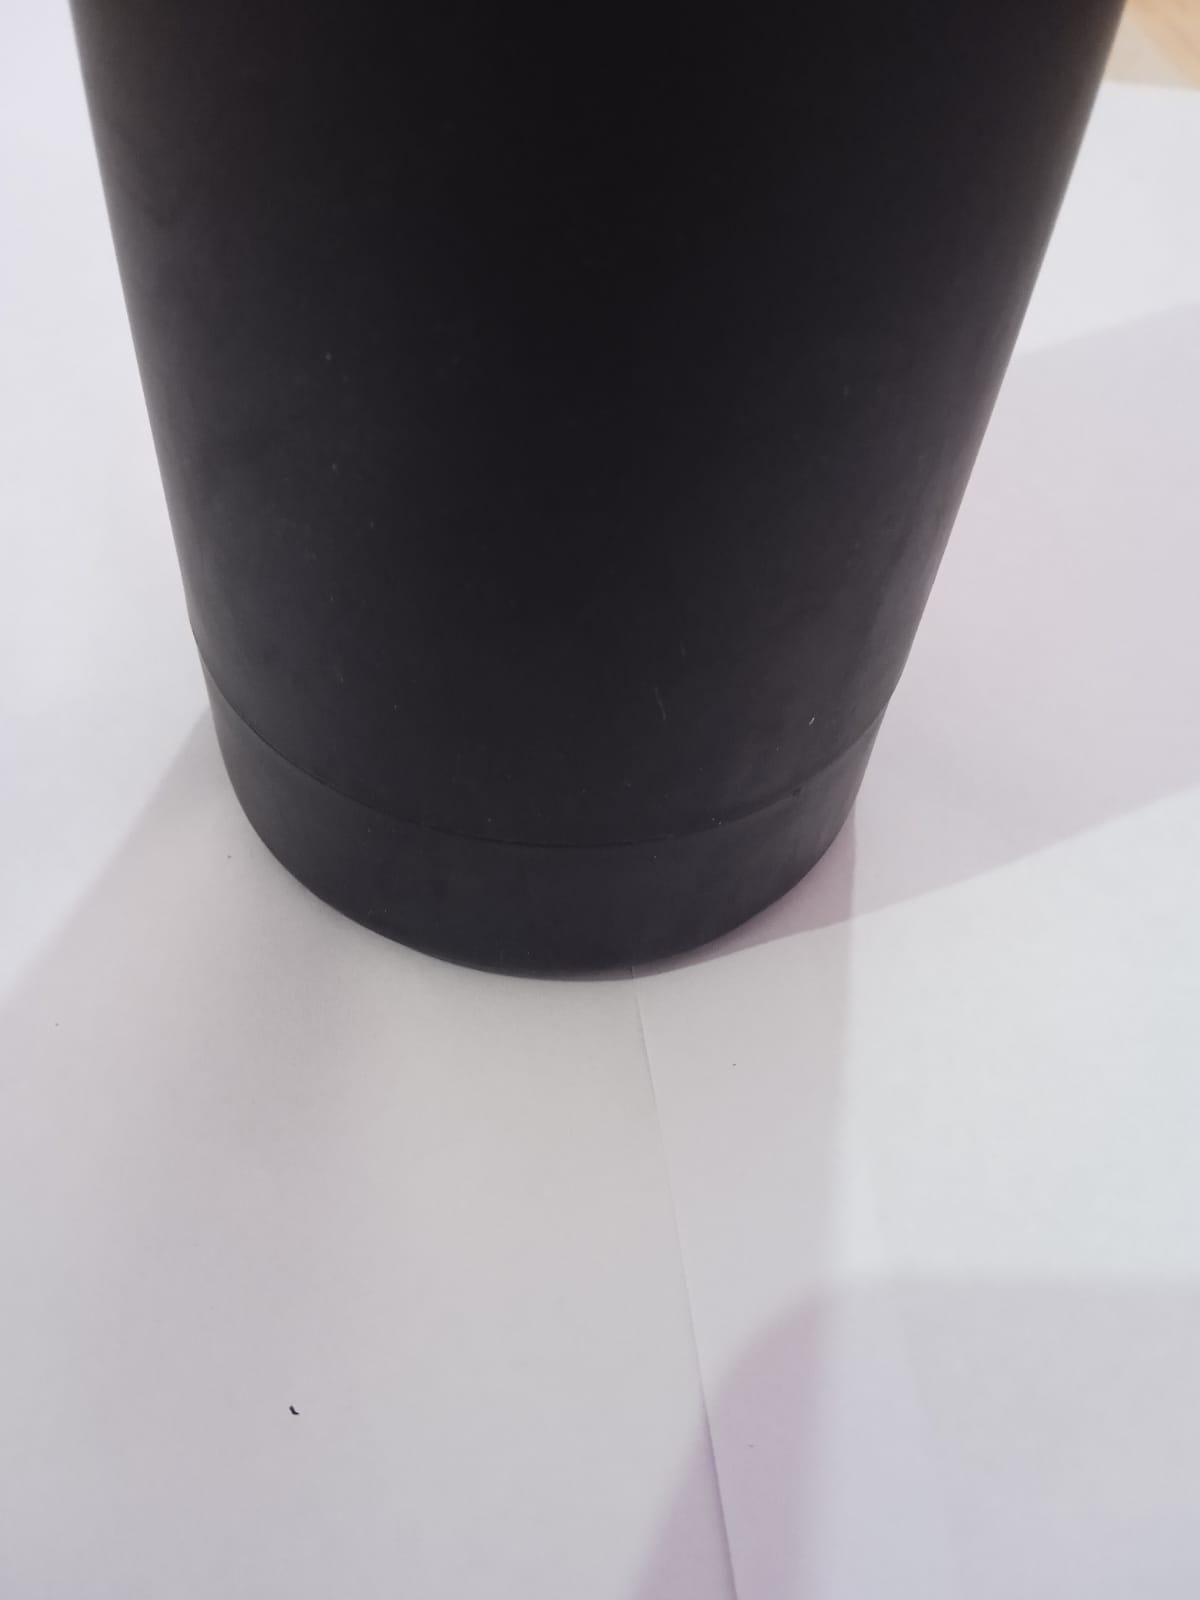bottle: (34, 3, 1147, 1060)
